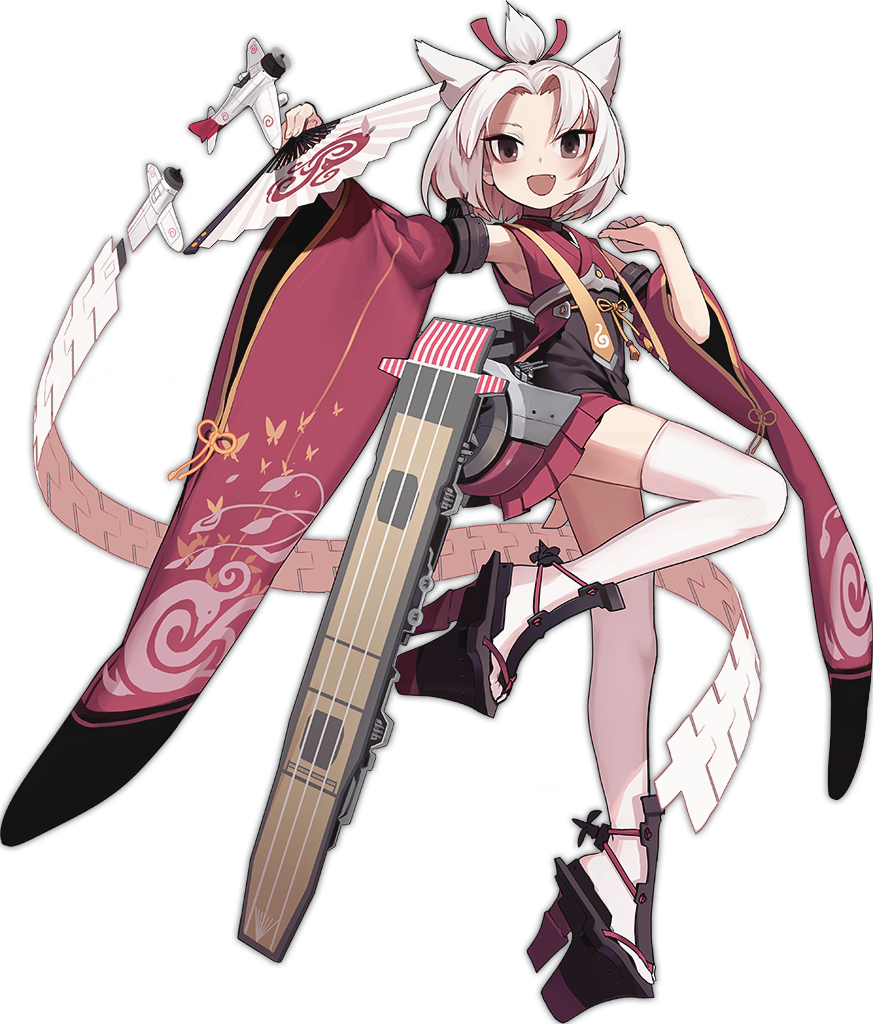person: (275, 49, 756, 800)
